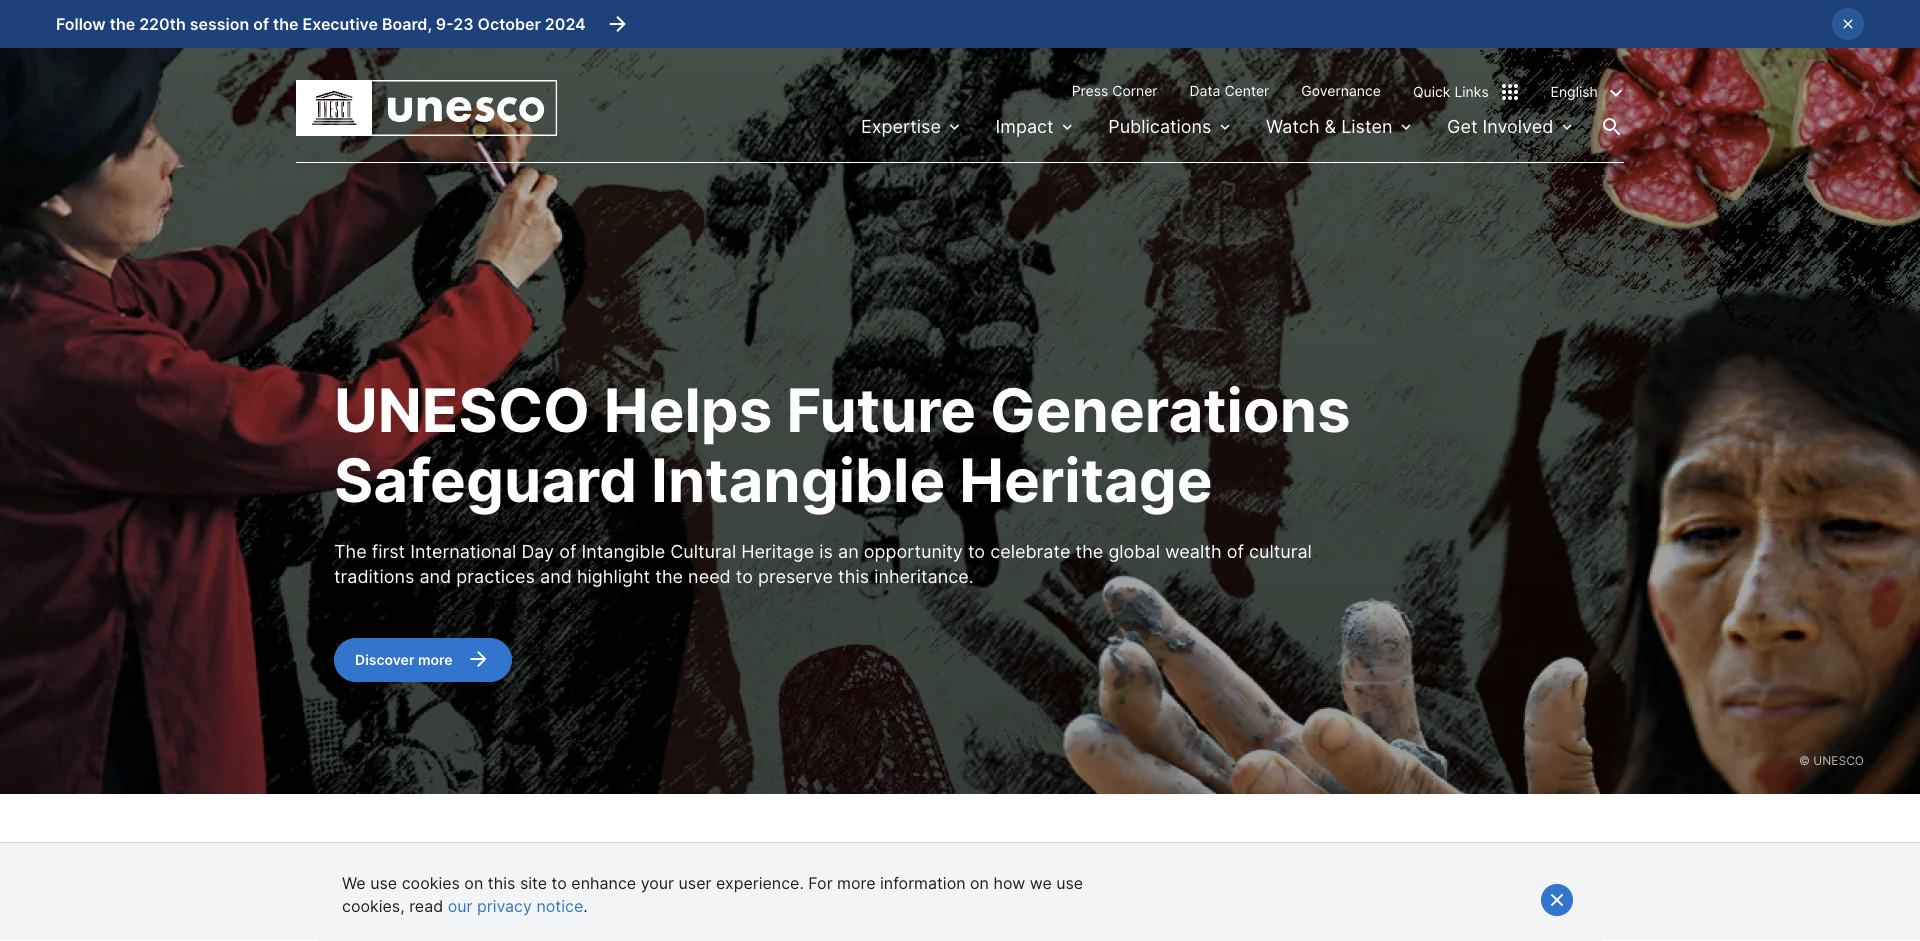button: (334, 637, 512, 682), (1397, 81, 1517, 103), (1549, 80, 1624, 107), (1413, 83, 1489, 100), (1540, 883, 1578, 916), (1540, 885, 1573, 916)
dropdown: (1250, 110, 1431, 142), (1431, 110, 1592, 142), (1092, 110, 1250, 142), (845, 110, 980, 142), (980, 110, 1092, 142), (1533, 80, 1624, 107)
link: (296, 80, 558, 136), (56, 12, 629, 36), (448, 896, 583, 915), (1056, 80, 1173, 102), (1173, 80, 1286, 102), (1286, 80, 1397, 102), (0, 0, 1, 1)
menu_item: (1250, 110, 1431, 142), (1431, 110, 1592, 142), (1092, 110, 1250, 142), (845, 110, 980, 142), (980, 110, 1092, 142)
